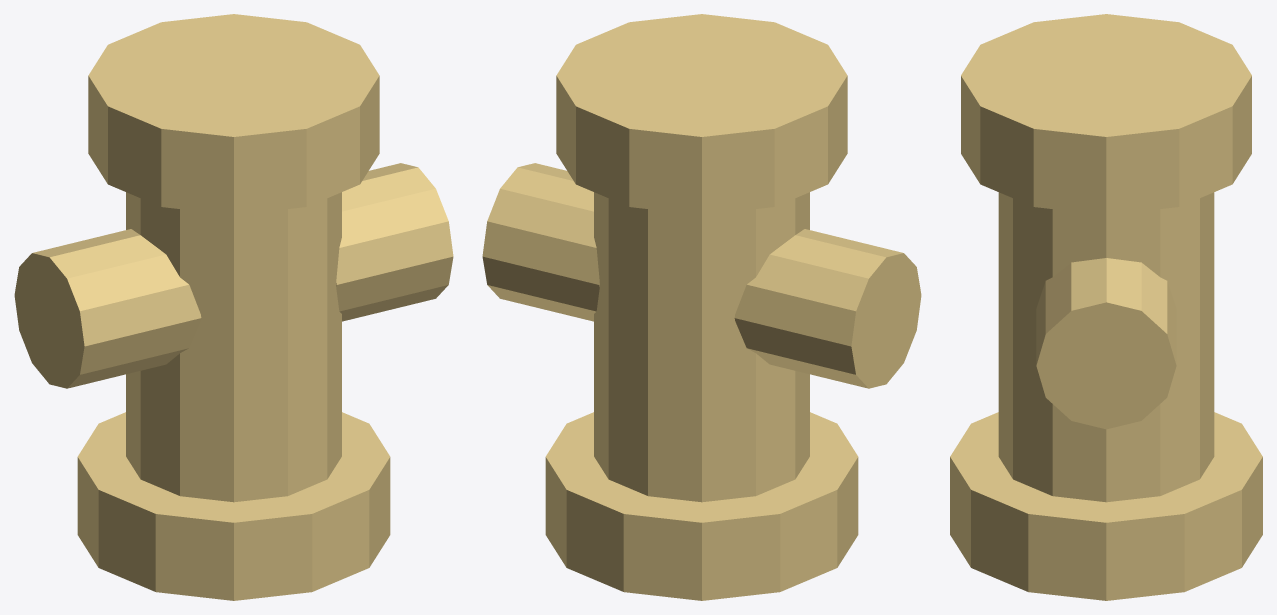
The model's file is fire-hydrant.glb.
The picture shows the model from 3 angles, left to right: view 1: azimuth 30°, elevation 25°; view 2: azimuth 150°, elevation 25°; view 3: azimuth 270°, elevation 25°; orthographic projection.
Visible parts, largest first — view 1: body, cap, base, side_-0.27, side_0.27; view 2: body, cap, base, side_-0.27, side_0.27; view 3: cap, body, base, side_0.27.
Part boxes in pixels (left/top/right/bottom): body: left=126, top=192, right=341, bottom=502; cap: left=88, top=14, right=379, bottom=215; base: left=77, top=412, right=390, bottom=600; side_-0.27: left=14, top=229, right=201, bottom=388; side_0.27: left=336, top=163, right=453, bottom=321; body: left=594, top=192, right=809, bottom=502; cap: left=556, top=14, right=847, bottom=215; base: left=545, top=412, right=858, bottom=600; side_-0.27: left=734, top=229, right=921, bottom=388; side_0.27: left=482, top=163, right=599, bottom=321; cap: left=961, top=14, right=1251, bottom=215; body: left=998, top=192, right=1214, bottom=502; base: left=950, top=412, right=1262, bottom=600; side_0.27: left=1036, top=258, right=1176, bottom=429.
Bounding box in the file's own units: 0.79 × 0.94 × 0.58.
